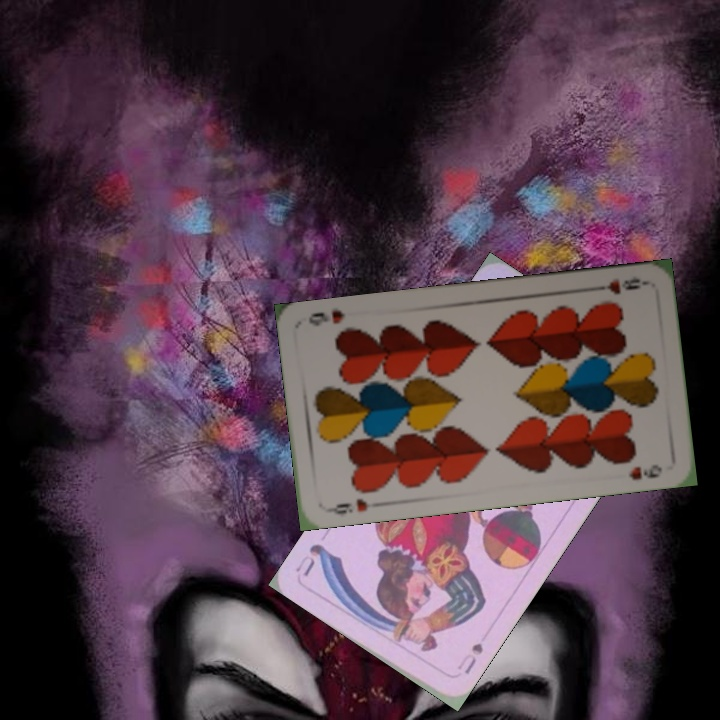H9: (589, 272, 648, 297), (322, 494, 382, 517)
SU: (452, 638, 486, 677)
